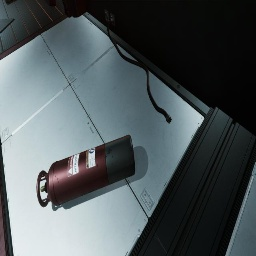NitrogenTank ,: (36, 135, 135, 207)
